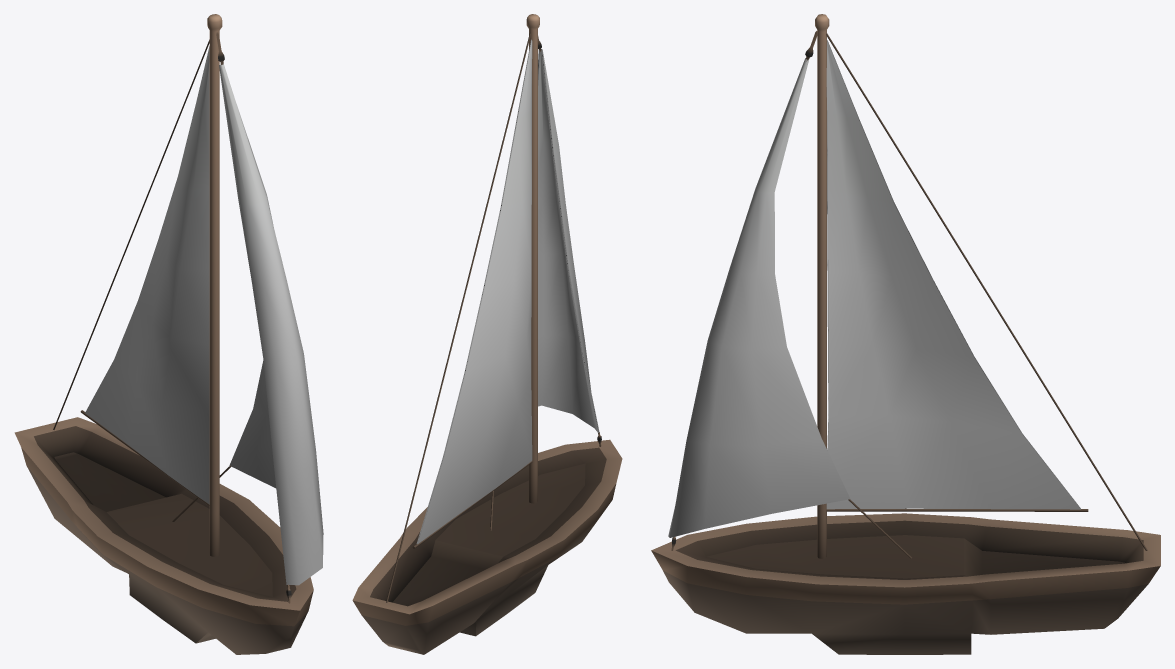
The picture shows the model from 3 angles, left to right: view 1: azimuth 30°, elevation 25°; view 2: azimuth 150°, elevation 25°; view 3: azimuth 270°, elevation 25°; orthographic projection. The views are drawn at different scales.
Visible parts, largest first — view 1: Sailboat; view 2: Sailboat; view 3: Sailboat.
Part boxes in pixels (x1=…): Sailboat: x1=14, y1=14, x2=323, y2=654; Sailboat: x1=352, y1=14, x2=622, y2=654; Sailboat: x1=651, y1=14, x2=1160, y2=654.
Bounding box in the file's own units: 0.1256 × 0.5 × 0.3648.
